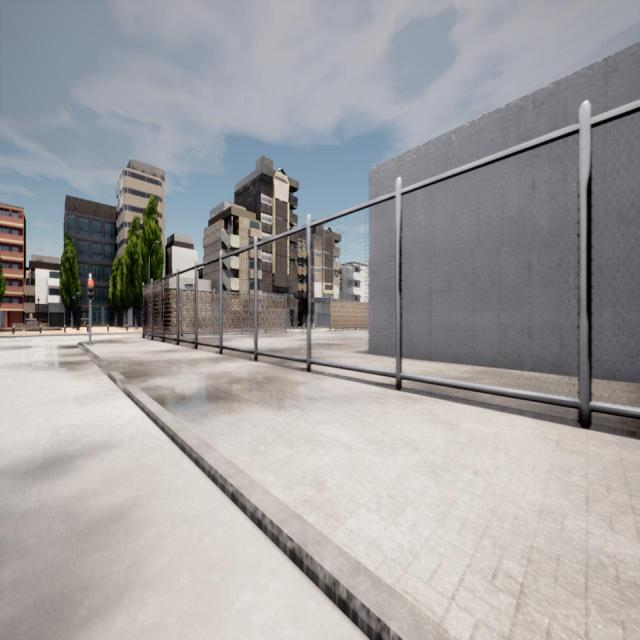traffic_light: (87, 280, 94, 299)
